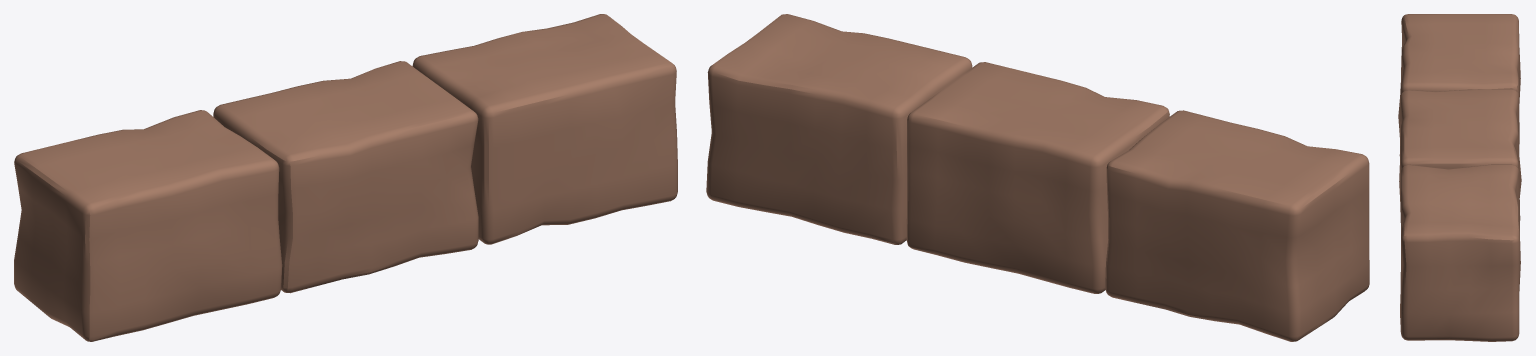
File: fbx_Block_Stone_02.fbx
3 views of the same model, side by side, from view 1: azimuth 30°, elevation 25°; view 2: azimuth 150°, elevation 25°; view 3: azimuth 270°, elevation 25° (orthographic). The views are drawn at different scales.
Visible parts, largest first — view 1: Cube.003; view 2: Cube.003; view 3: Cube.003.
Boxes of the visible parts, x1,y1,x2,y2 form: Cube.003: (14, 14, 677, 341); Cube.003: (706, 14, 1369, 341); Cube.003: (1398, 14, 1521, 341).
Bounding box in the file's own units: 364 × 83.29 × 83.86.
